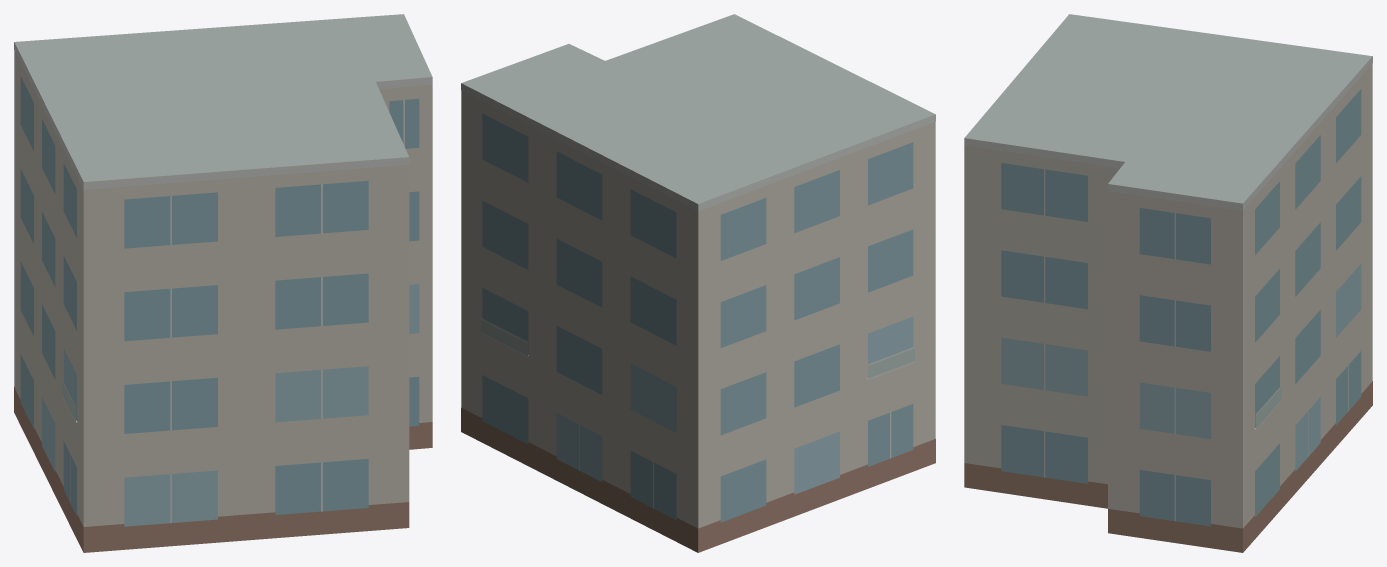
Rendered from survey-upis-32909982.glb.
The picture shows the model from 3 angles, left to right: view 1: azimuth 30°, elevation 25°; view 2: azimuth 150°, elevation 25°; view 3: azimuth 270°, elevation 25°; orthographic projection. The views are drawn at different scales.
Parts seen in each view (by area): view 1: survey-upis-32909982.tmp; view 2: survey-upis-32909982.tmp; view 3: survey-upis-32909982.tmp.
Part boxes in pixels (left/top/right/bottom): survey-upis-32909982.tmp: left=14, top=14, right=432, bottom=552; survey-upis-32909982.tmp: left=461, top=14, right=935, bottom=552; survey-upis-32909982.tmp: left=964, top=14, right=1372, bottom=552.
Size of the model in its own units: 13.78 by 11.83 by 12.54.
